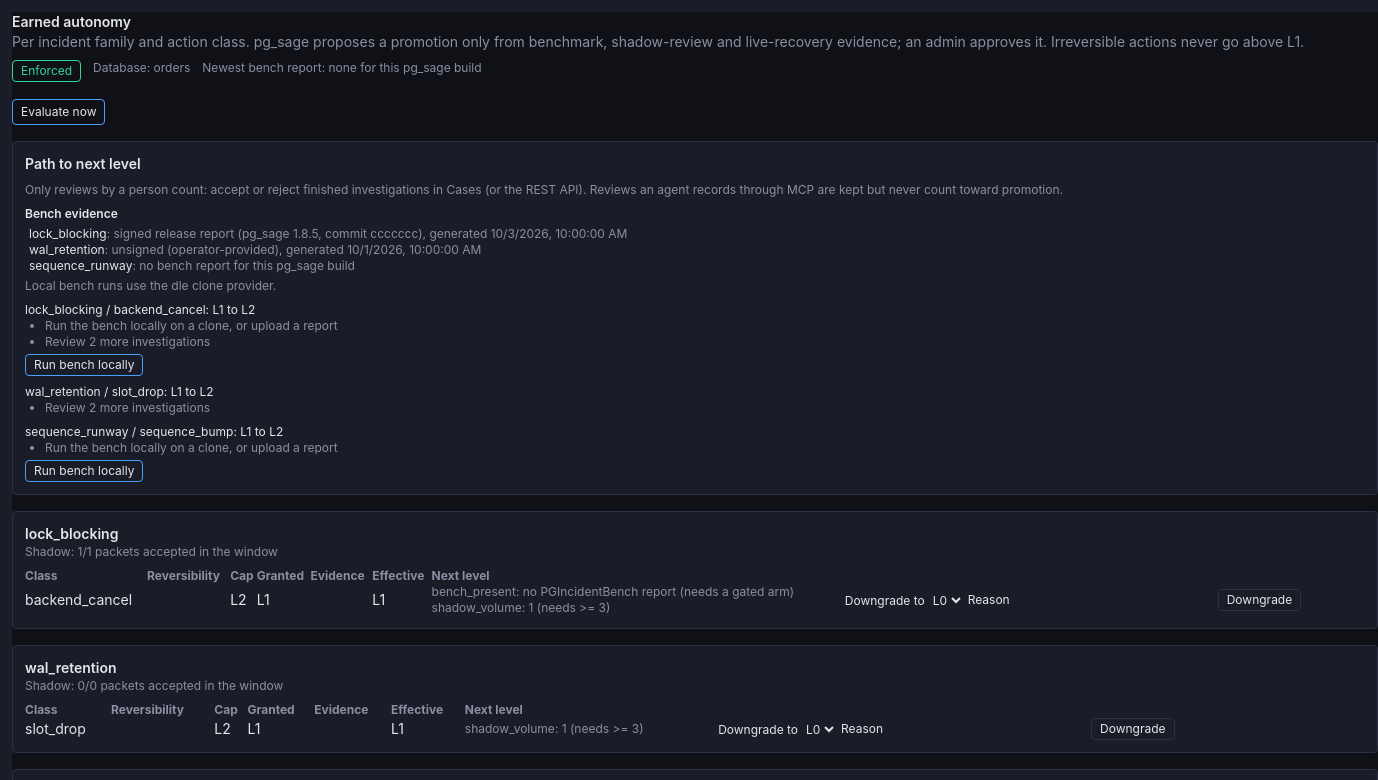
Path to next level: bench evidence › shows a refused start
The width and height of the screenshot is (1378, 780).
Click the 1st button "Run bench locally".
click(84, 365)  # box [25,354,144,376]
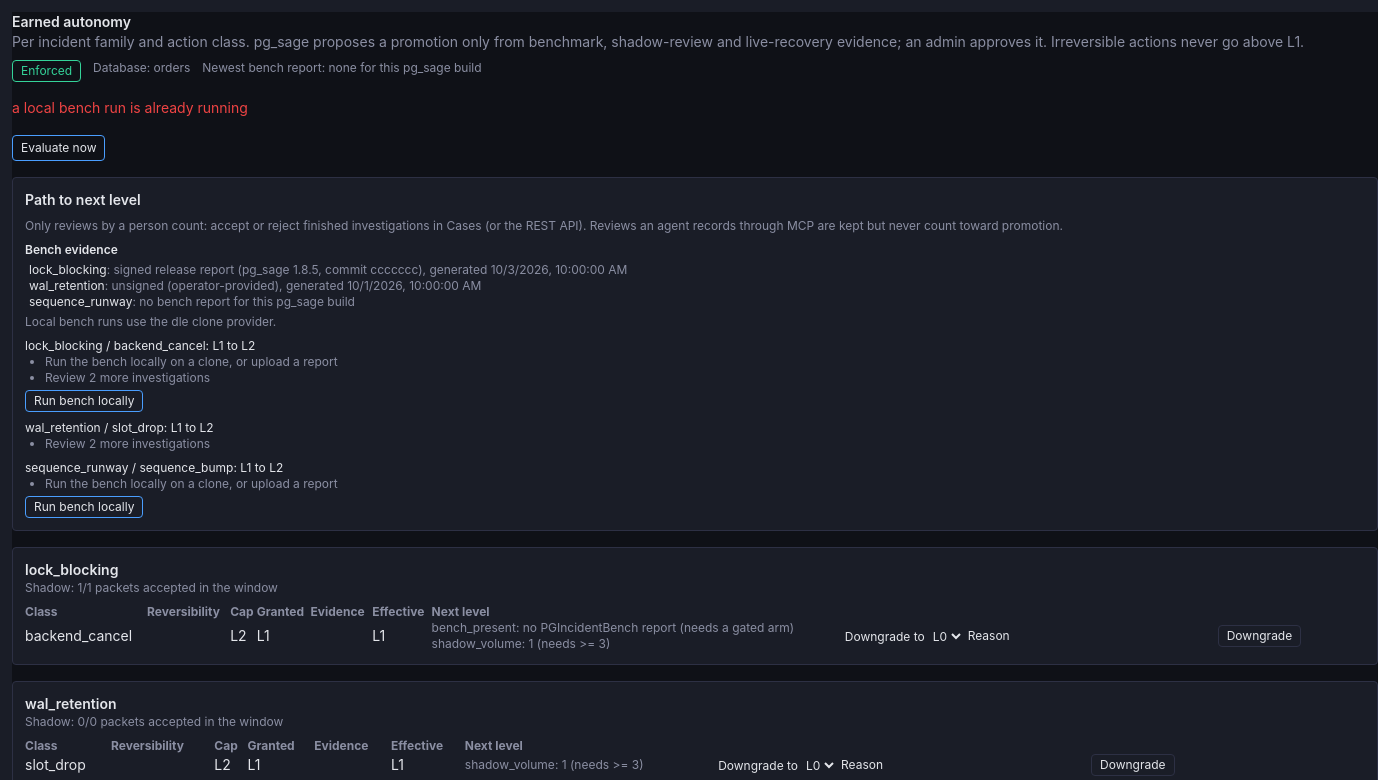
Expected: the message reads "a local bench run is already running", [12,99,248,116]
